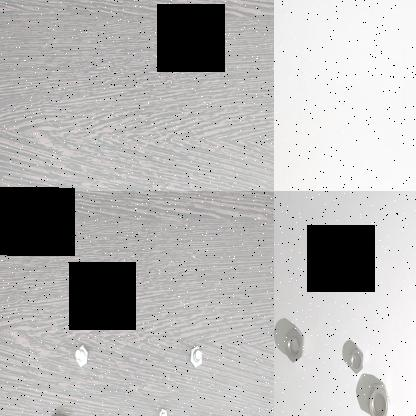Bolts: (73, 343, 91, 370), (188, 342, 204, 372)
NUTS: (283, 323, 307, 367), (366, 379, 390, 416), (348, 344, 366, 374)
